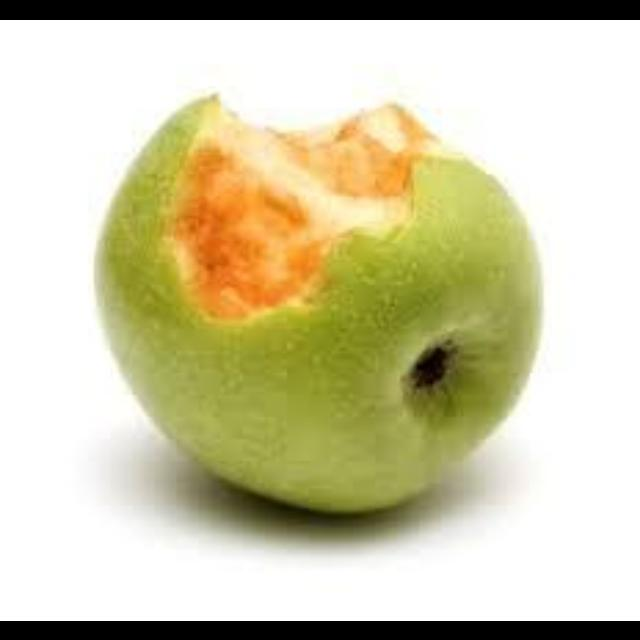apple: (97, 96, 538, 510)
rotten: (176, 101, 457, 319)
